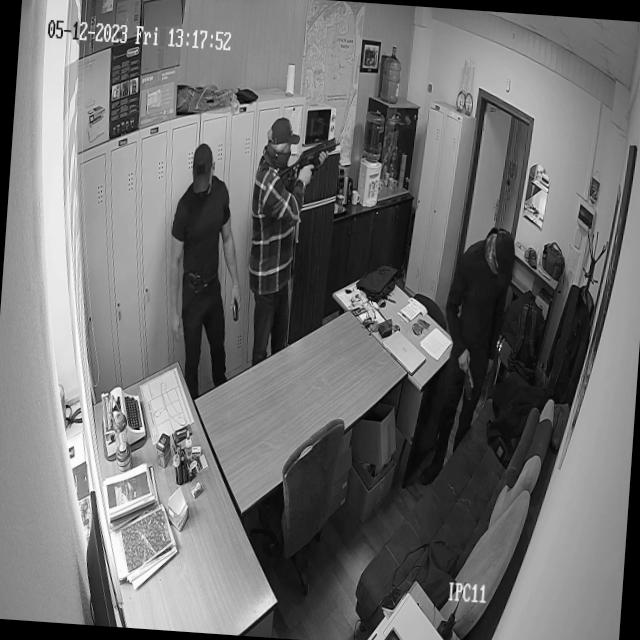gun: (278, 132, 340, 187)
person: (422, 222, 518, 488), (158, 141, 254, 405)
person with a gun: (240, 113, 343, 373)
